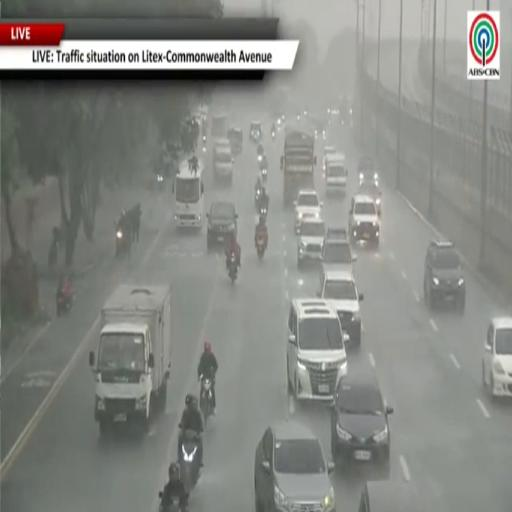car: (254, 421, 335, 511), (331, 372, 393, 477), (287, 298, 348, 404), (318, 270, 363, 347), (424, 240, 465, 313), (483, 317, 511, 397), (358, 480, 425, 511), (349, 196, 380, 247), (322, 228, 356, 274), (207, 202, 238, 250), (298, 218, 325, 267), (294, 189, 323, 233), (325, 153, 347, 194), (358, 180, 381, 215), (358, 155, 378, 183), (228, 127, 242, 155), (323, 146, 335, 171), (250, 121, 262, 142)
motorcycle: (180, 430, 200, 492), (200, 375, 212, 425), (159, 491, 187, 511), (116, 227, 131, 257), (56, 291, 73, 316), (48, 237, 58, 270), (228, 253, 238, 284), (256, 235, 265, 260), (255, 188, 261, 211), (156, 173, 164, 189), (259, 205, 267, 218), (261, 167, 267, 182), (203, 136, 206, 152), (271, 131, 275, 140)
truck: (89, 284, 176, 435), (281, 128, 316, 206), (173, 158, 204, 229), (213, 139, 234, 184), (212, 114, 228, 140)
